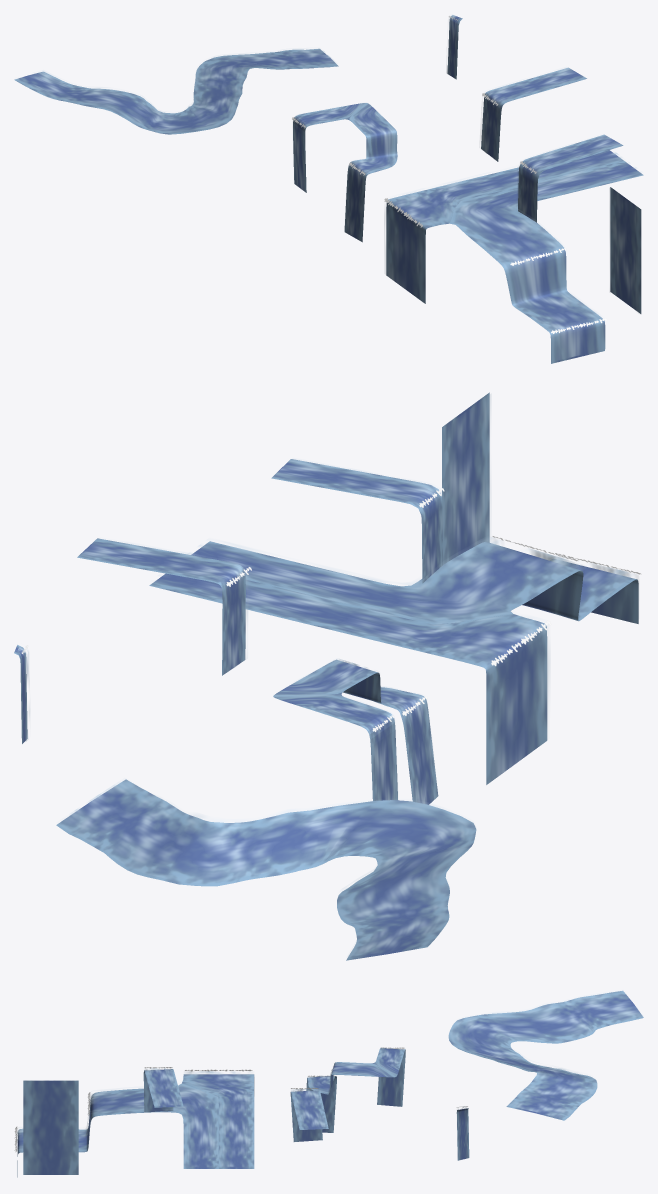
The model's file is level_2_water.gltf.
3 renders of one model, top to bottom at view 1: azimuth 30°, elevation 25°; view 2: azimuth 150°, elevation 25°; view 3: azimuth 270°, elevation 25°, orthographic. The views are drawn at different scales.
Parts seen in each view (by area): view 1: water_river_split, water_river_1, foam_river_split, water_river_2, water_waterfall_3, foam_river_1, water_waterfall_1, water_waterfall_2, foam_river_2, foam_waterfall_3, foam_waterfall_1, foam_waterfall_2 (+1 smaller); view 2: water_river_split, water_river_1, foam_river_1, foam_river_split, water_river_2, water_waterfall_3, water_waterfall_1, water_waterfall_2, foam_river_2, foam_waterfall_3, foam_waterfall_1, foam_waterfall_2; view 3: water_river_1, water_river_split, water_waterfall_3, foam_river_1, water_river_2, foam_river_split, water_waterfall_1, water_waterfall_2, water_waterfall_background, foam_river_2, foam_waterfall_1, foam_waterfall_2.
Boxes of the visible parts, left/top/right/bottom form: water_river_split: left=386, top=150, right=643, bottom=363; water_river_1: left=14, top=48, right=338, bottom=134; foam_river_split: left=384, top=152, right=636, bottom=359; water_river_2: left=293, top=103, right=397, bottom=242; water_waterfall_3: left=610, top=187, right=641, bottom=313; foam_river_1: left=32, top=48, right=334, bottom=131; water_waterfall_1: left=481, top=67, right=586, bottom=161; water_waterfall_2: left=518, top=134, right=623, bottom=222; foam_river_2: left=293, top=102, right=395, bottom=239; foam_waterfall_3: left=609, top=188, right=638, bottom=305; foam_waterfall_1: left=480, top=67, right=574, bottom=158; foam_waterfall_2: left=517, top=135, right=619, bottom=219; water_river_split: left=149, top=541, right=638, bottom=784; water_river_1: left=56, top=779, right=476, bottom=960; foam_river_1: left=64, top=782, right=473, bottom=956; foam_river_split: left=158, top=537, right=636, bottom=779; water_river_2: left=273, top=659, right=438, bottom=804; water_waterfall_3: left=442, top=392, right=489, bottom=564; water_waterfall_1: left=77, top=538, right=245, bottom=675; water_waterfall_2: left=271, top=459, right=442, bottom=583; foam_river_2: left=274, top=659, right=434, bottom=803; foam_waterfall_3: left=445, top=394, right=491, bottom=547; foam_waterfall_1: left=81, top=542, right=248, bottom=671; foam_waterfall_2: left=276, top=459, right=443, bottom=578; water_river_1: left=448, top=990, right=643, bottom=1120; water_river_split: left=17, top=1074, right=254, bottom=1177; water_waterfall_3: left=23, top=1080, right=78, bottom=1174; foam_river_1: left=450, top=994, right=642, bottom=1116; water_river_2: left=306, top=1048, right=405, bottom=1132; foam_river_split: left=17, top=1071, right=253, bottom=1166; water_waterfall_1: left=290, top=1090, right=328, bottom=1141; water_waterfall_2: left=143, top=1069, right=183, bottom=1112; water_waterfall_background: left=456, top=1108, right=469, bottom=1160; foam_river_2: left=308, top=1047, right=404, bottom=1092; foam_waterfall_1: left=291, top=1088, right=327, bottom=1126; foam_waterfall_2: left=145, top=1068, right=180, bottom=1105.
Bounding box in the file's own units: 144 × 45.35 × 222.
Materials: 3 (3 with a texture image).
